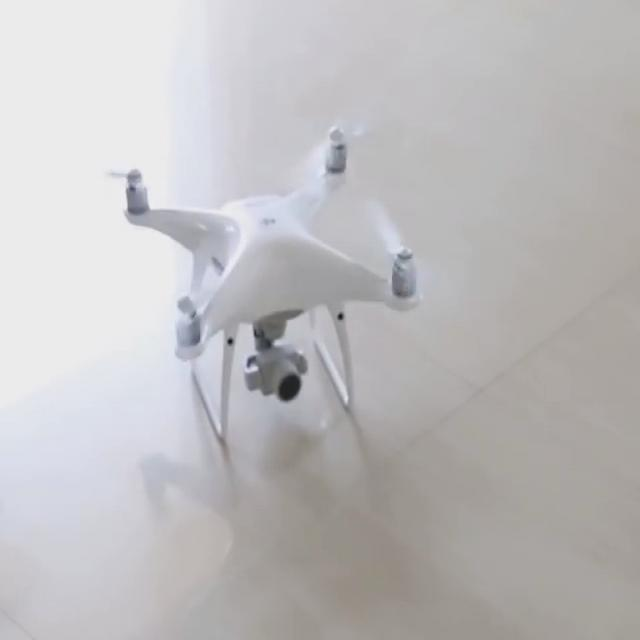drone: (106, 115, 462, 389)
